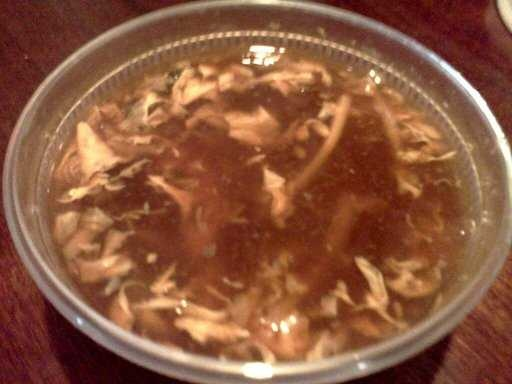soup: (58, 49, 471, 345)
